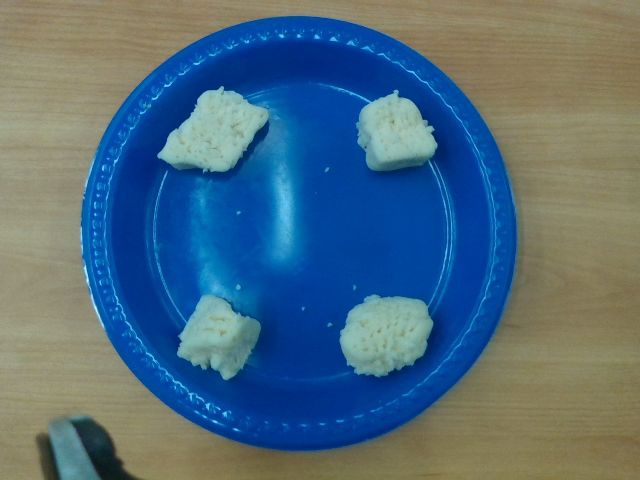mashed_potato: (160, 90, 269, 172), (340, 296, 432, 377), (176, 294, 260, 380), (359, 92, 437, 170)
